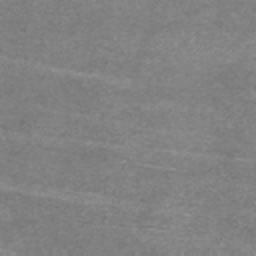Finishing roll printing: (0, 56, 129, 87), (0, 184, 121, 207), (152, 150, 256, 165), (132, 226, 169, 234)
